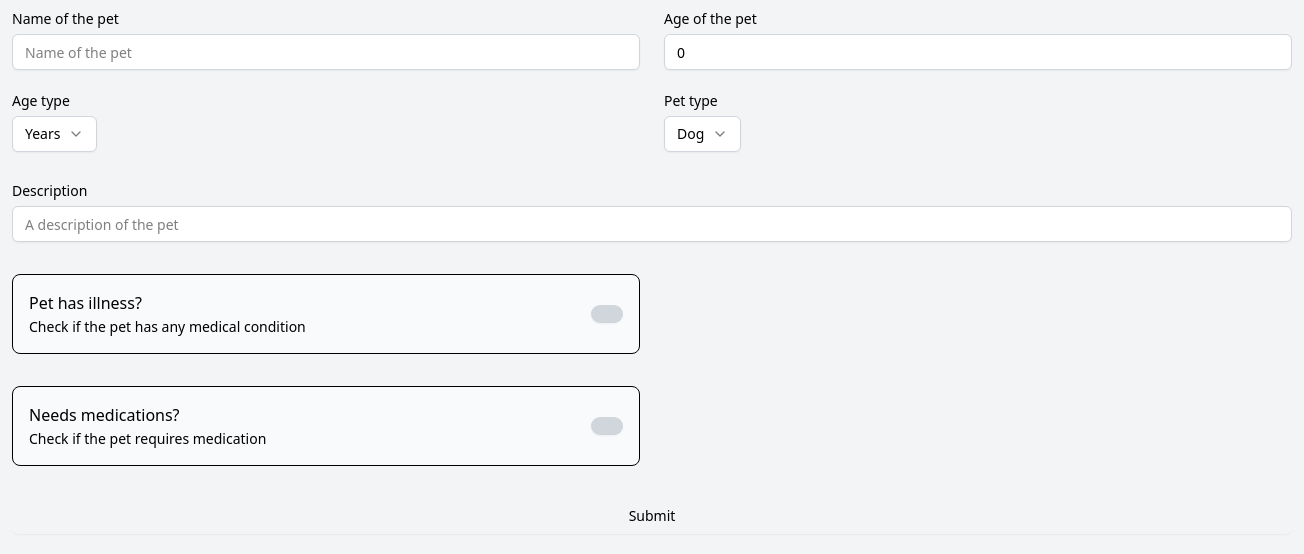
Test: Post pet form tests › Should validate illness description is required when hasIllness is true
Type "Test Pet" into the field with placeholder "Name of the pet" at (326, 52), box left=12, top=34, right=640, bottom=70
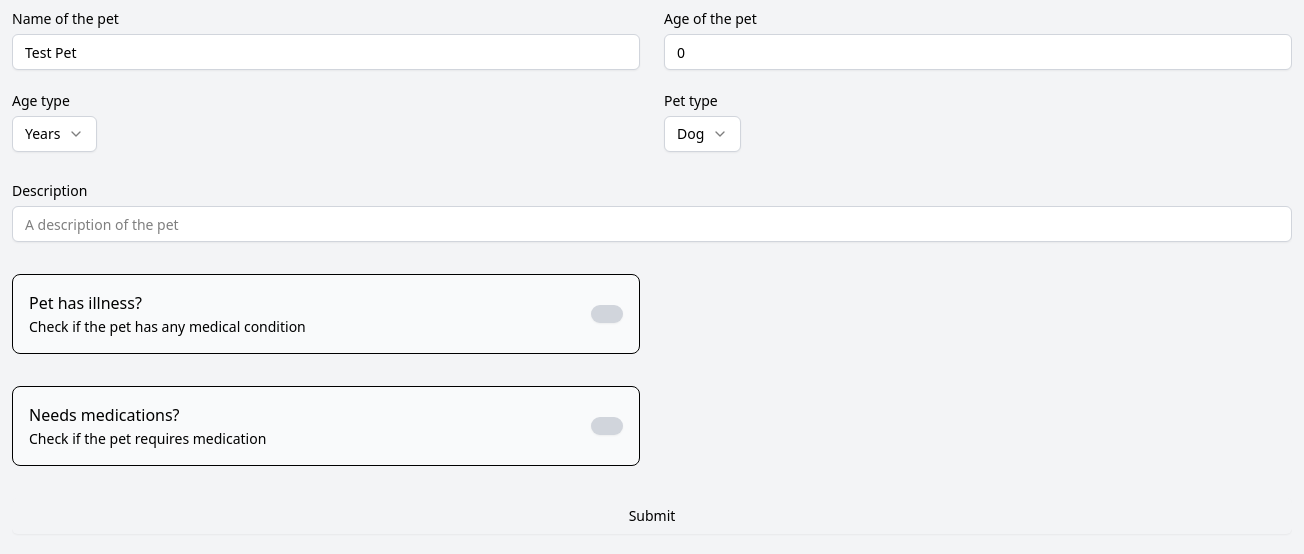
Replace the text in the number field with placeholder "Age" with "2" at (978, 52), box left=664, top=34, right=1292, bottom=70
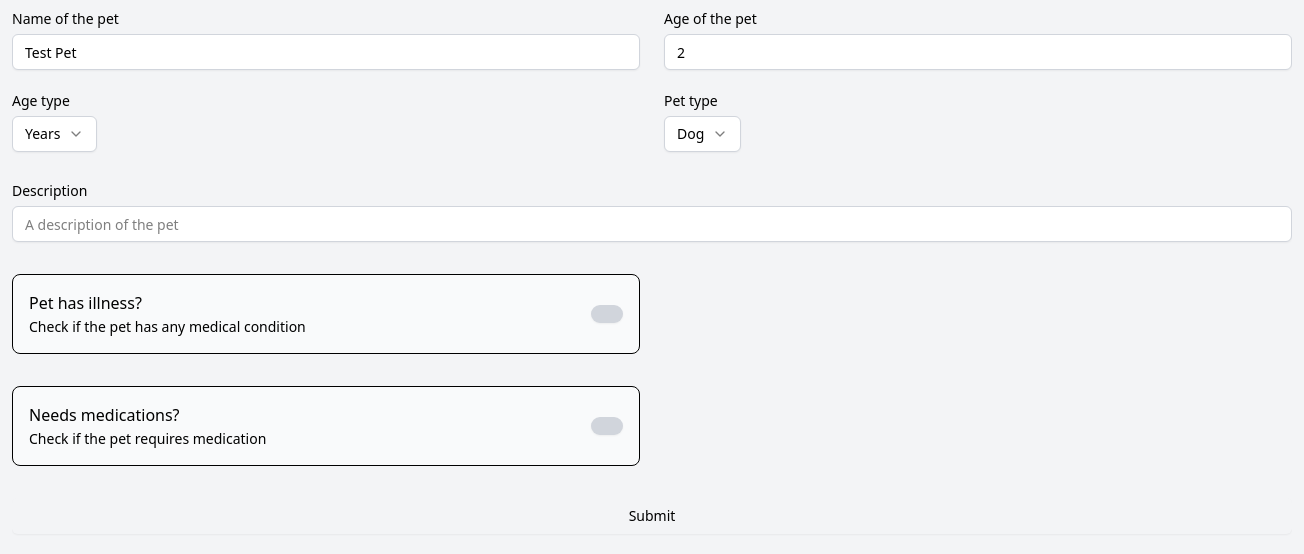
Type "This is a test description for the pet" into the field with placeholder "A description of the pet" at (652, 224), box left=12, top=206, right=1292, bottom=242
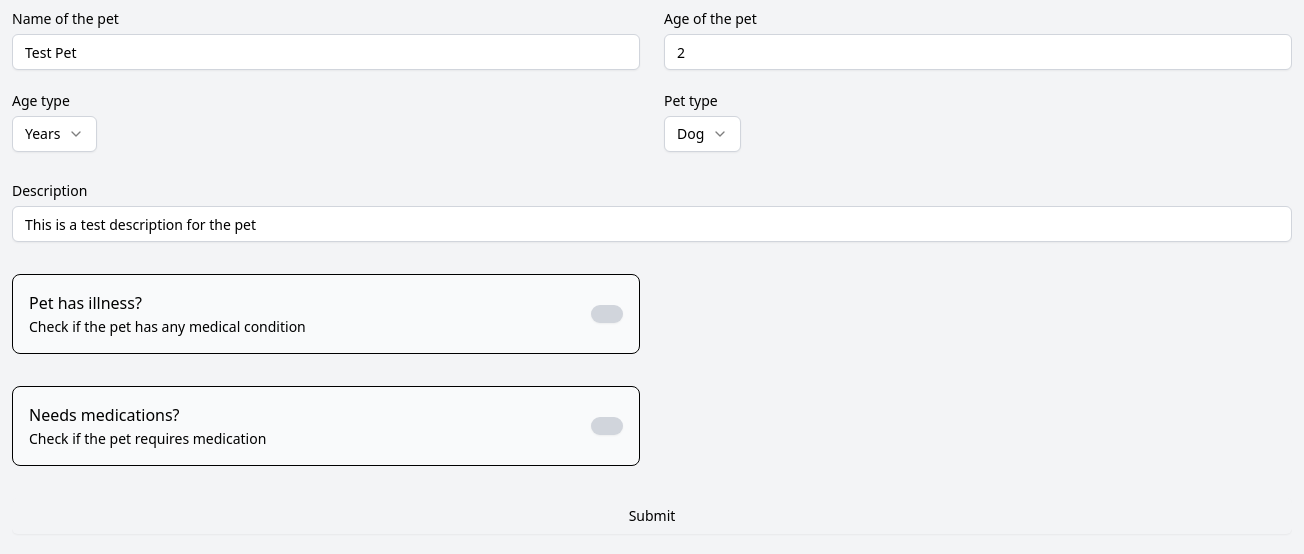
Click the switch named "pet has illness" in the row of "Pet has illness?" at (607, 314), box left=591, top=305, right=623, bottom=323
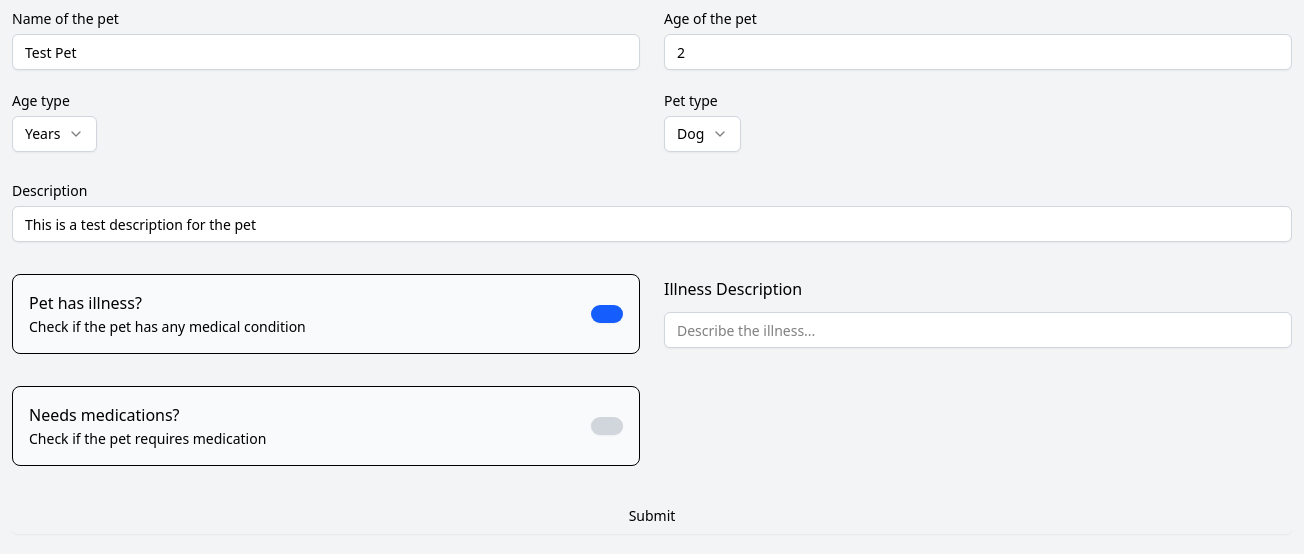
Now the text "Illness Description" is shown, box left=664, top=278, right=802, bottom=300
Click the button "Submit" at (652, 516), box left=12, top=498, right=1292, bottom=534
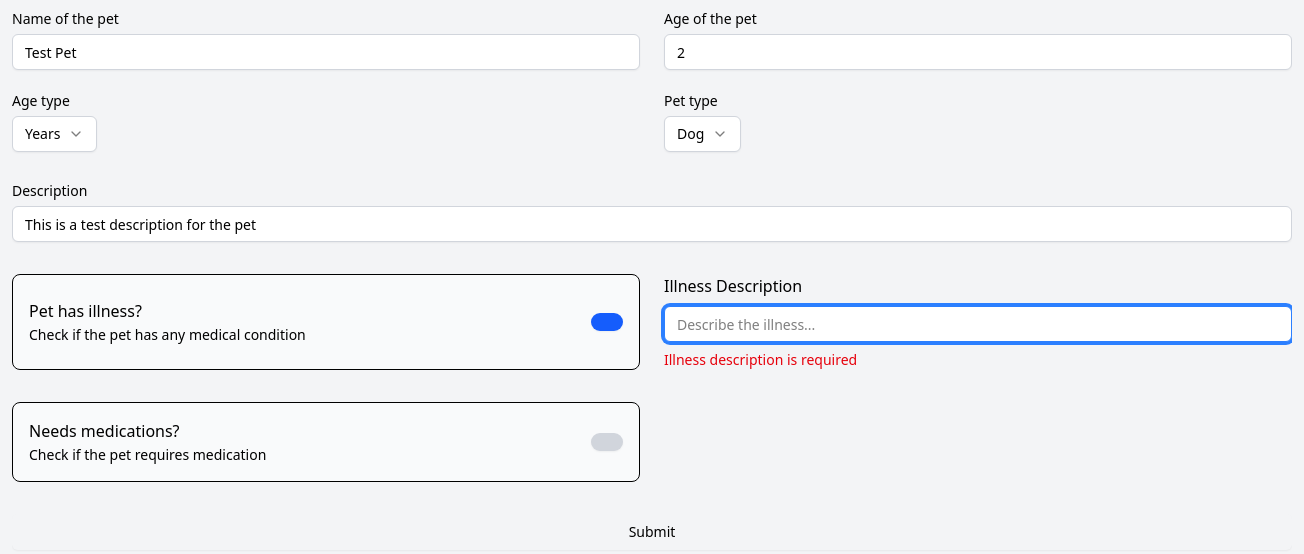
Now the text "Illness description is required" is shown, box left=664, top=350, right=857, bottom=369
